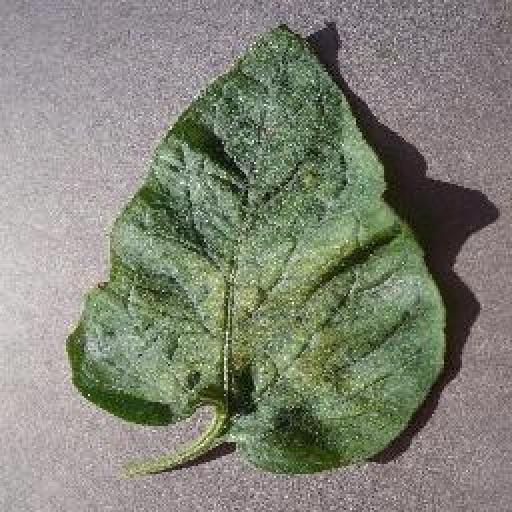disease_tomato: (68, 24, 446, 474)
